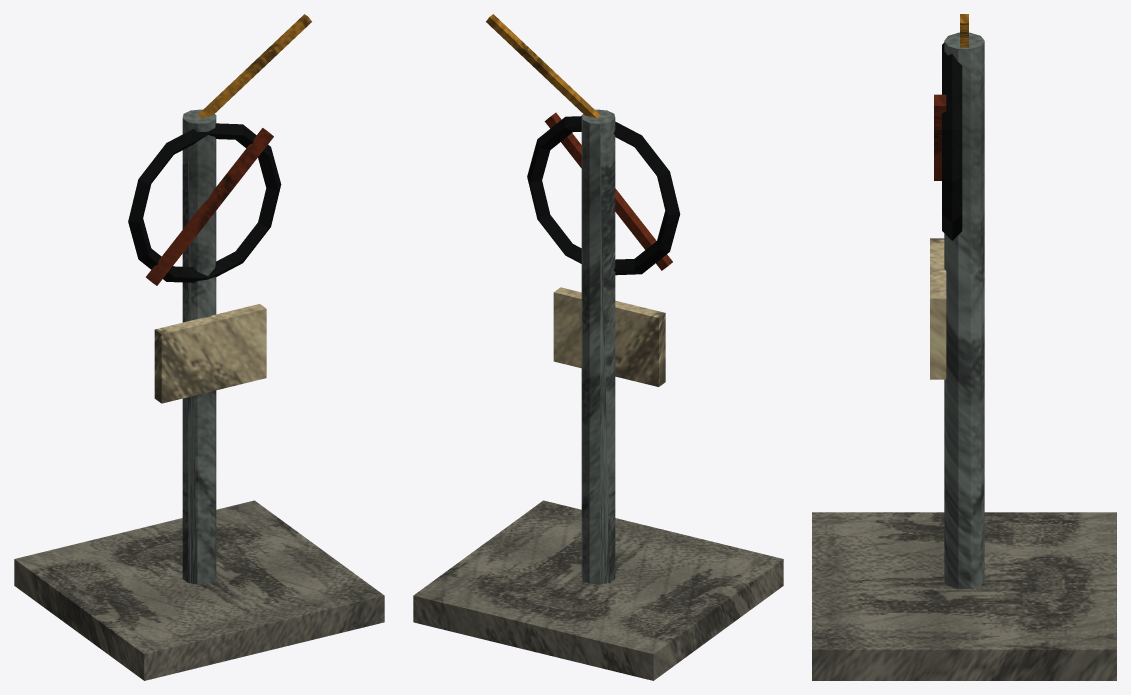
Rendered from west-comms-shadow-marker.glb.
The picture shows the model from 3 angles, left to right: view 1: azimuth 30°, elevation 25°; view 2: azimuth 150°, elevation 25°; view 3: azimuth 270°, elevation 25°; orthographic projection. The views are drawn at different scales.
Visible parts, largest first — view 1: west-comms-shadow-marker; view 2: west-comms-shadow-marker; view 3: west-comms-shadow-marker.
Boxes of the visible parts, left/top/right/bottom form: west-comms-shadow-marker: left=14, top=14, right=384, bottom=680; west-comms-shadow-marker: left=413, top=14, right=783, bottom=680; west-comms-shadow-marker: left=812, top=14, right=1116, bottom=680.
Bounding box in the file's own units: 3.2 × 7.16 × 3.
Materials: 1 (1 with a texture image).
